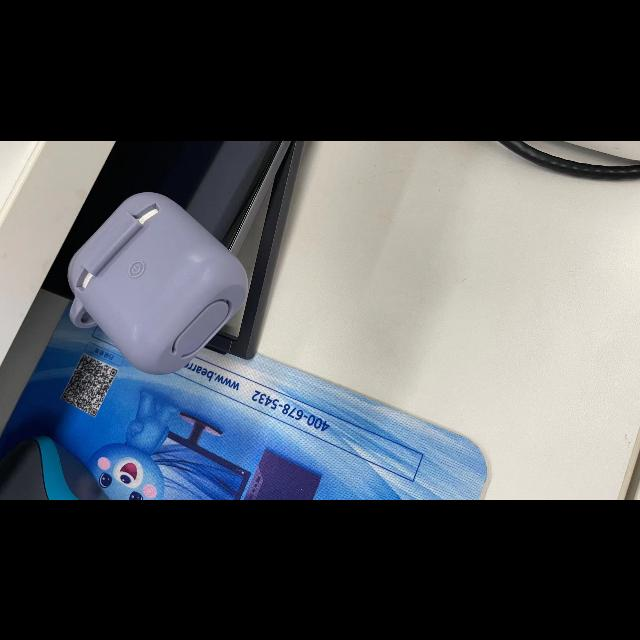airpods: (67, 189, 249, 376)
